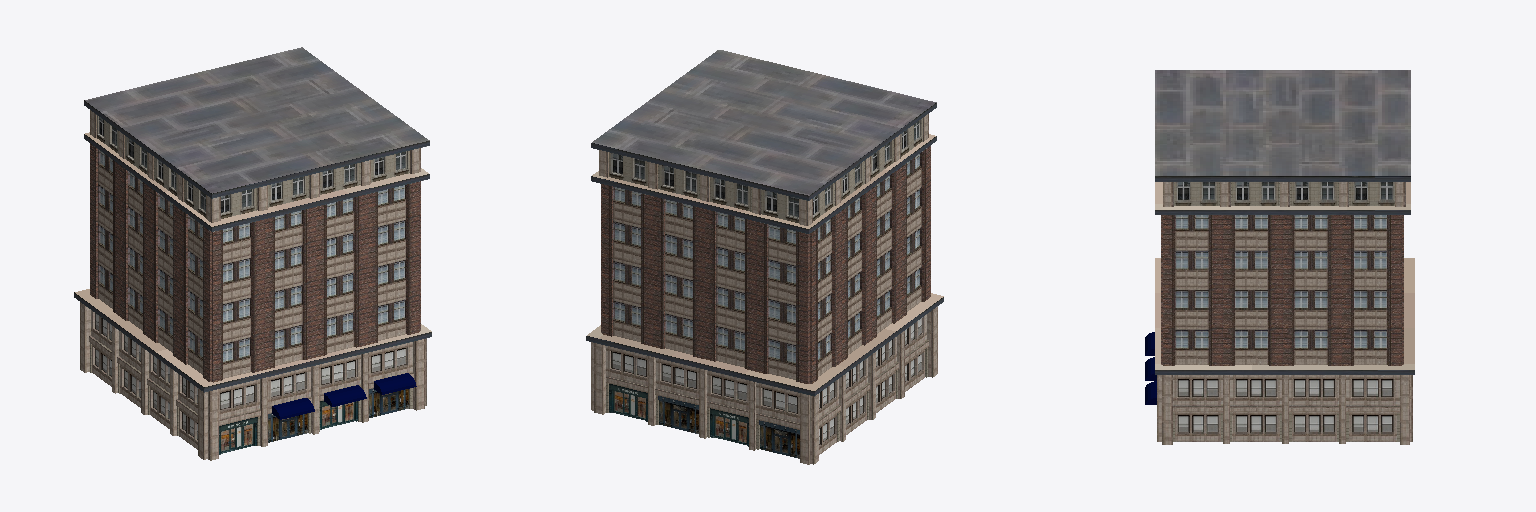
The picture shows the model from 3 angles: view 1: azimuth 30°, elevation 25°; view 2: azimuth 150°, elevation 25°; view 3: azimuth 270°, elevation 25°; orthographic projection.
Parts seen in each view (by area): view 1: Object_34, Object_118, Object_162, Object_20, Object_32, Object_36, Object_38, Object_60, Object_48, Object_116, Object_4, Object_18 (+10 smaller); view 2: Object_160, Object_118, Object_162, Object_100, Object_32, Object_114, Object_38, Object_60, Object_48, Object_116, Object_90, Object_98 (+8 smaller); view 3: Object_158, Object_118, Object_70, Object_82, Object_112, Object_32, Object_38, Object_72, Object_80.
Part boxes in pixels (x1,y1,x2,y2): Object_34: (212,182,419,382); Object_118: (84,47,429,198); Object_162: (90,143,211,381); Object_20: (219,342,412,419); Object_32: (74,289,431,392); Object_36: (221,151,409,218); Object_38: (84,132,429,231); Object_60: (92,345,197,449); Object_48: (91,310,197,413); Object_116: (97,115,205,217); Object_4: (219,417,257,454); Object_18: (369,388,408,417); Object_160: (602,184,809,383); Object_118: (591,50,936,200); Object_162: (810,146,930,383); Object_100: (606,346,799,423); Object_32: (586,293,943,396); Object_114: (609,152,798,222); Object_38: (591,134,936,233); Object_60: (819,350,924,454); Object_48: (819,315,926,418); Object_116: (813,118,922,220); Object_90: (658,396,698,433); Object_98: (759,420,799,458); Object_158: (1163,215,1401,365); Object_118: (1155,70,1410,181); Object_70: (1173,375,1399,405); Object_82: (1175,412,1396,441); Object_112: (1174,182,1394,205); Object_32: (1155,258,1414,374); Object_38: (1155,182,1410,214); Object_72: (1162,375,1172,444); Object_80: (1400,375,1409,444).
Size of the model in its own units: 2.52 by 2.83 by 2.58.
1 materials, 1 textured.